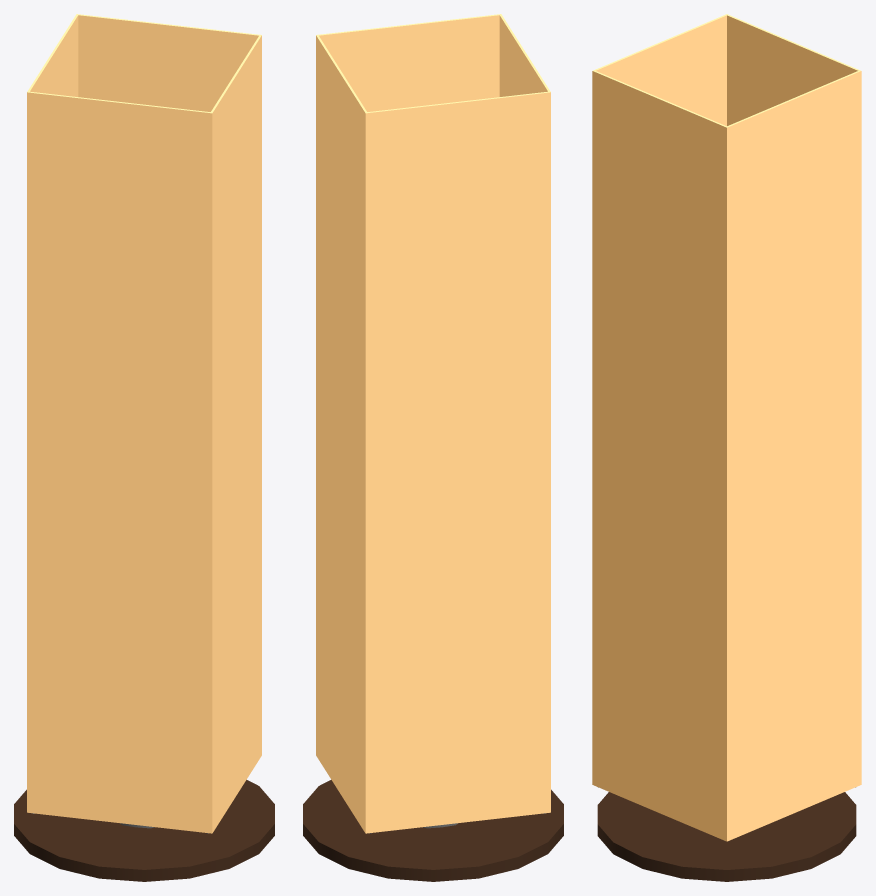
File: Floor_Lamp_ShortRoundBase_TallSquareShade.fbx
The picture shows the model from 3 angles, left to right: view 1: azimuth 30°, elevation 25°; view 2: azimuth 150°, elevation 25°; view 3: azimuth 270°, elevation 25°; orthographic projection.
Parts seen in each view (by area): view 1: Floor_Lamp_ShortRoundBase_TallSquareShade; view 2: Floor_Lamp_ShortRoundBase_TallSquareShade; view 3: Floor_Lamp_ShortRoundBase_TallSquareShade.
Part boxes in pixels (x1,y1,x2,y2): Floor_Lamp_ShortRoundBase_TallSquareShade: (14, 14, 274, 881); Floor_Lamp_ShortRoundBase_TallSquareShade: (303, 14, 563, 881); Floor_Lamp_ShortRoundBase_TallSquareShade: (592, 14, 861, 881).
Bounding box in the file's own units: 41 × 127 × 41.
